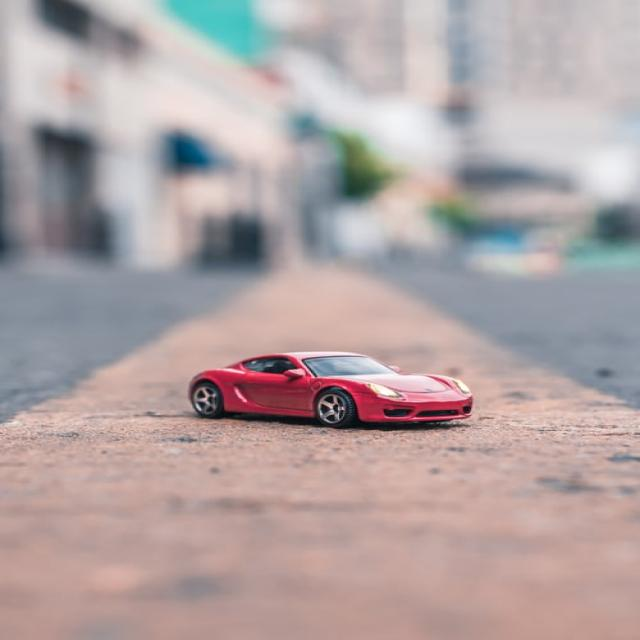Car: (187, 351, 473, 428)
